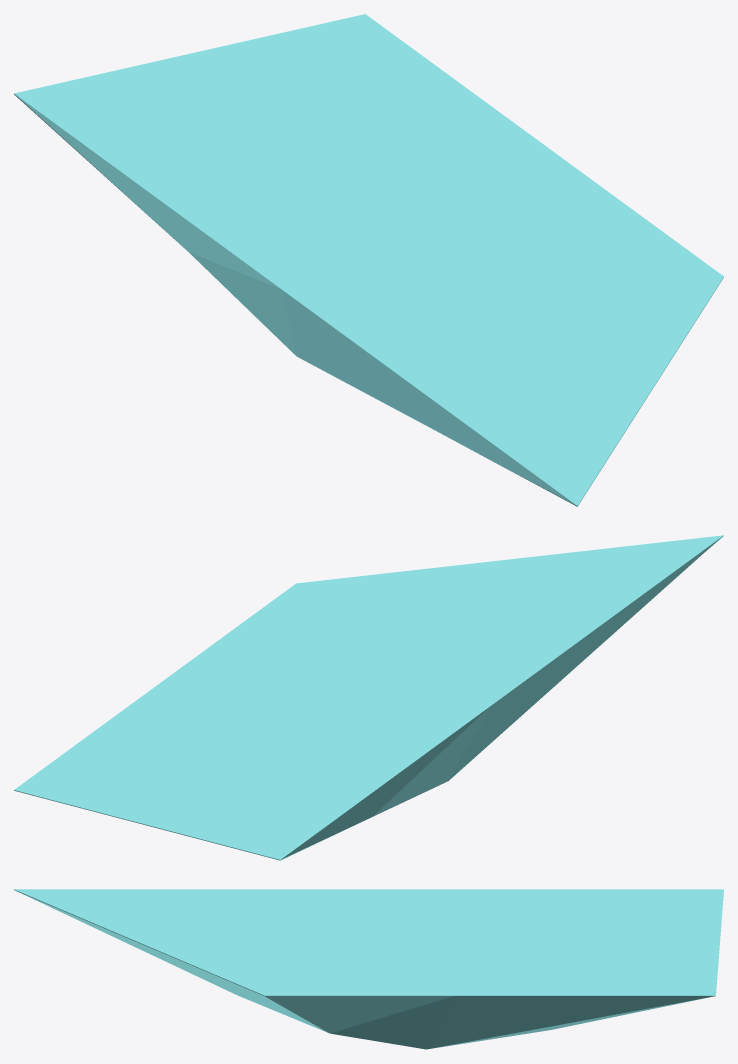
The picture shows the model from 3 angles, top to bottom: view 1: azimuth 30°, elevation 25°; view 2: azimuth 150°, elevation 25°; view 3: azimuth 270°, elevation 25°; orthographic projection. The views are drawn at different scales.
Parts seen in each view (by area): view 1: Object006; view 2: Object006; view 3: Object006.
Part boxes in pixels (box(x1,y1,x2,y2)): Object006: box(14, 14, 723, 506); Object006: box(14, 535, 723, 860); Object006: box(14, 889, 723, 1049).
Bounding box in the file's own units: 179 × 55.57 × 507.
